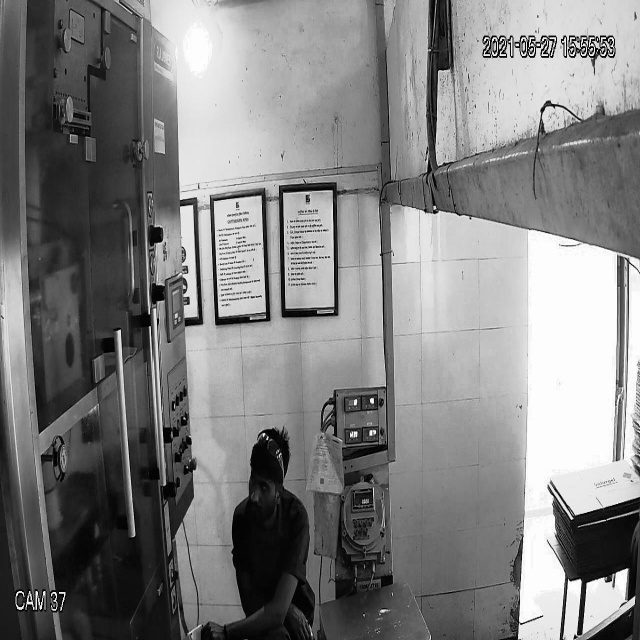Sin_gafas: (242, 465, 280, 502)
